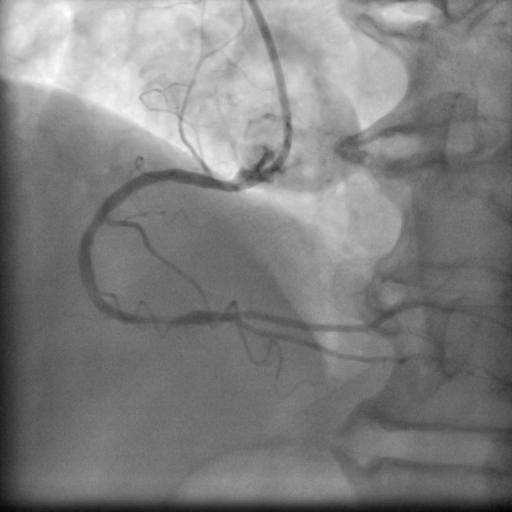Stenosis: (134, 307, 185, 329)
